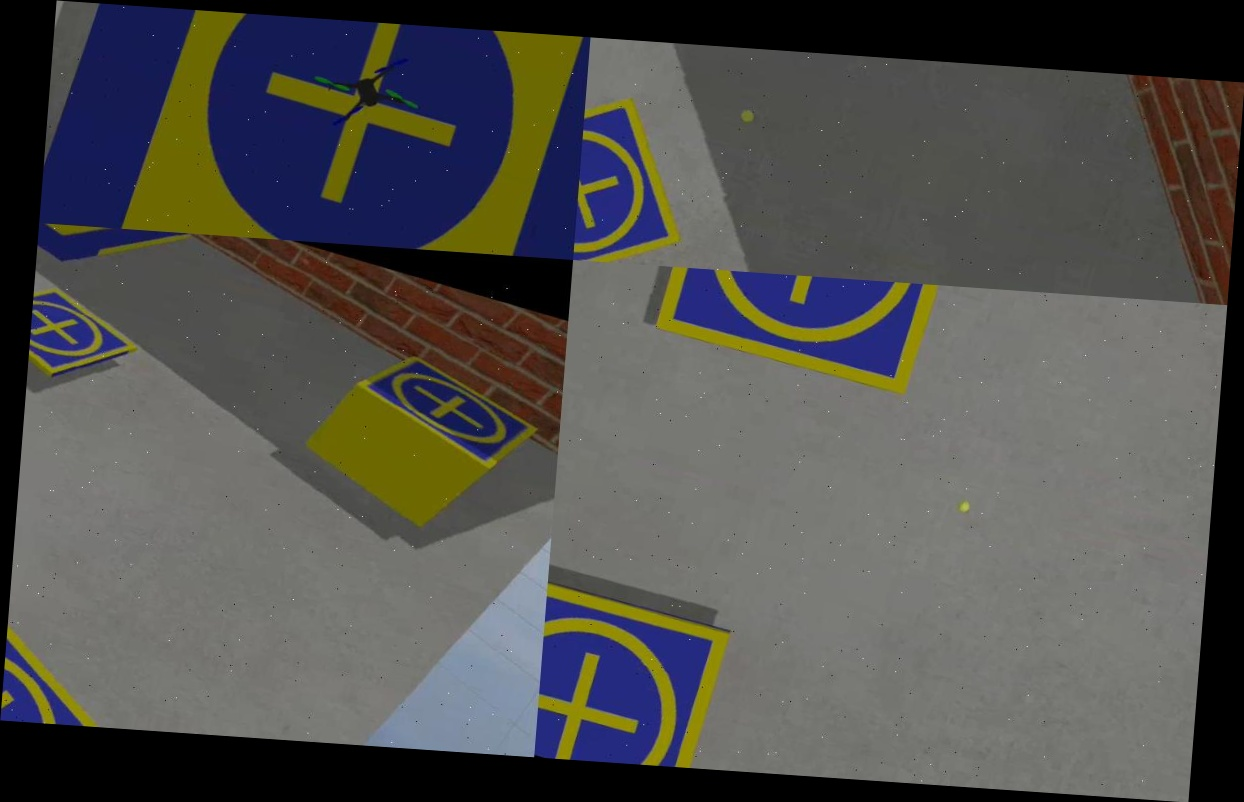large_base: (39, 0, 590, 260), (34, 223, 200, 295)
small_base: (643, 265, 976, 404), (534, 562, 738, 769), (334, 338, 555, 485), (573, 66, 720, 269), (26, 267, 153, 402)
